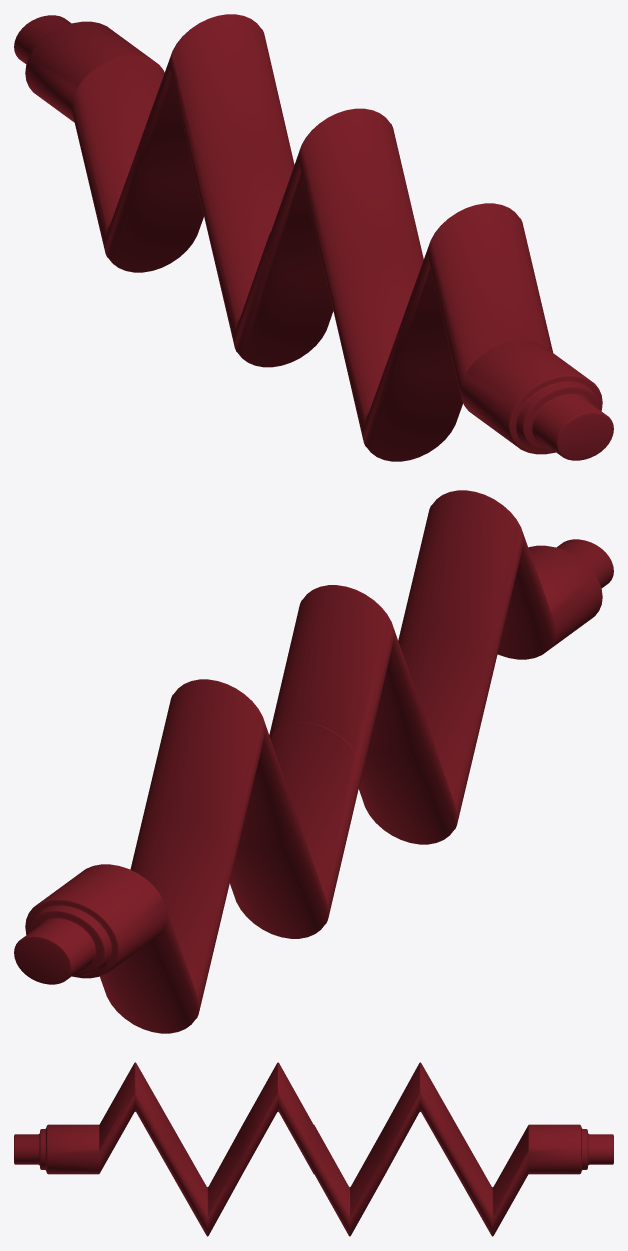
The model's file is resistor_lab.fbx.
3 renders of one model, top to bottom at view 1: azimuth 30°, elevation 25°; view 2: azimuth 150°, elevation 25°; view 3: azimuth 270°, elevation 25°, orthographic. The views are drawn at different scales.
Parts seen in each view (by area): view 1: Resistor_lab; view 2: Resistor_lab; view 3: Resistor_lab.
Boxes of the visible parts, x1=… form: Resistor_lab: x1=14, y1=14, x2=613, y2=461; Resistor_lab: x1=14, y1=490, x2=613, y2=1033; Resistor_lab: x1=14, y1=1062, x2=613, y2=1236.
Bounding box in the file's own units: 32.79 × 99.16 × 322.
